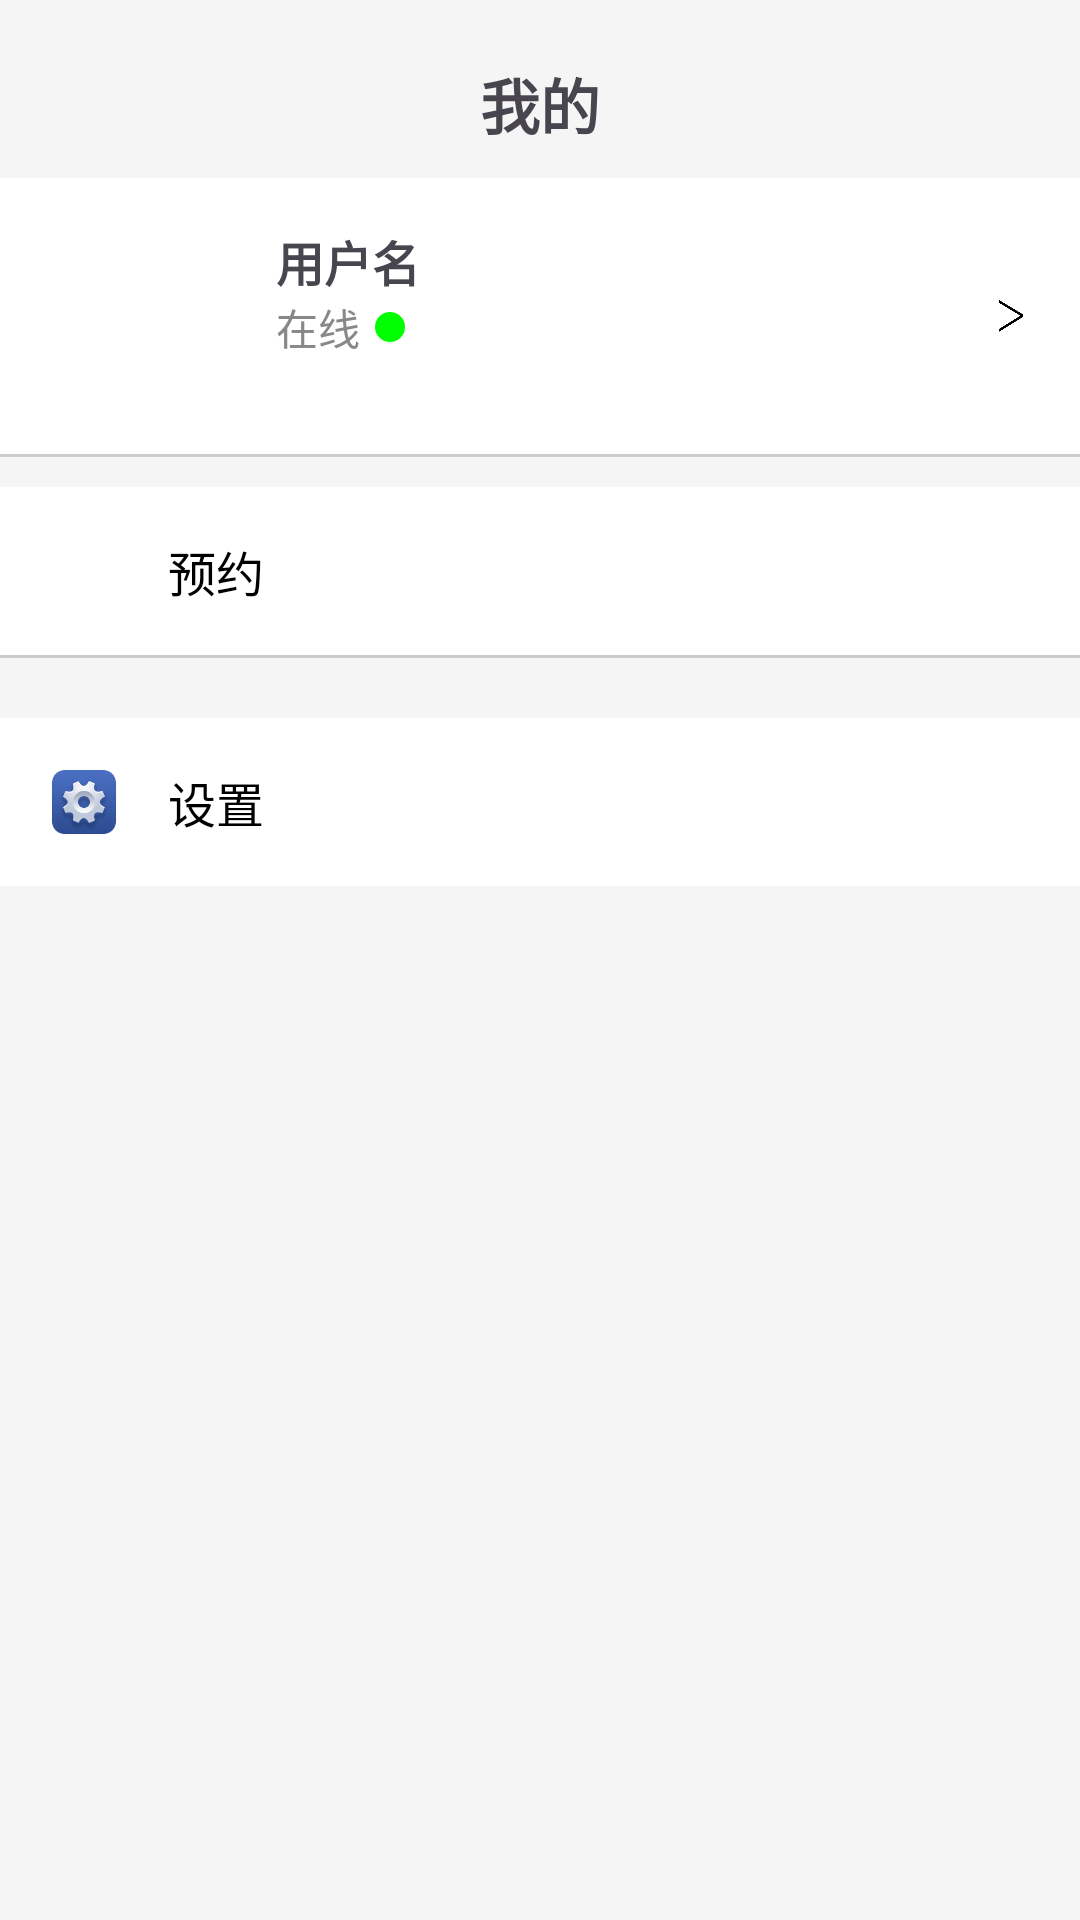

Screen size 1080 x 1920. Icon name, then its box in pixels as (x1, y1, x2, y2):
箭头: (999, 300, 1023, 332)
